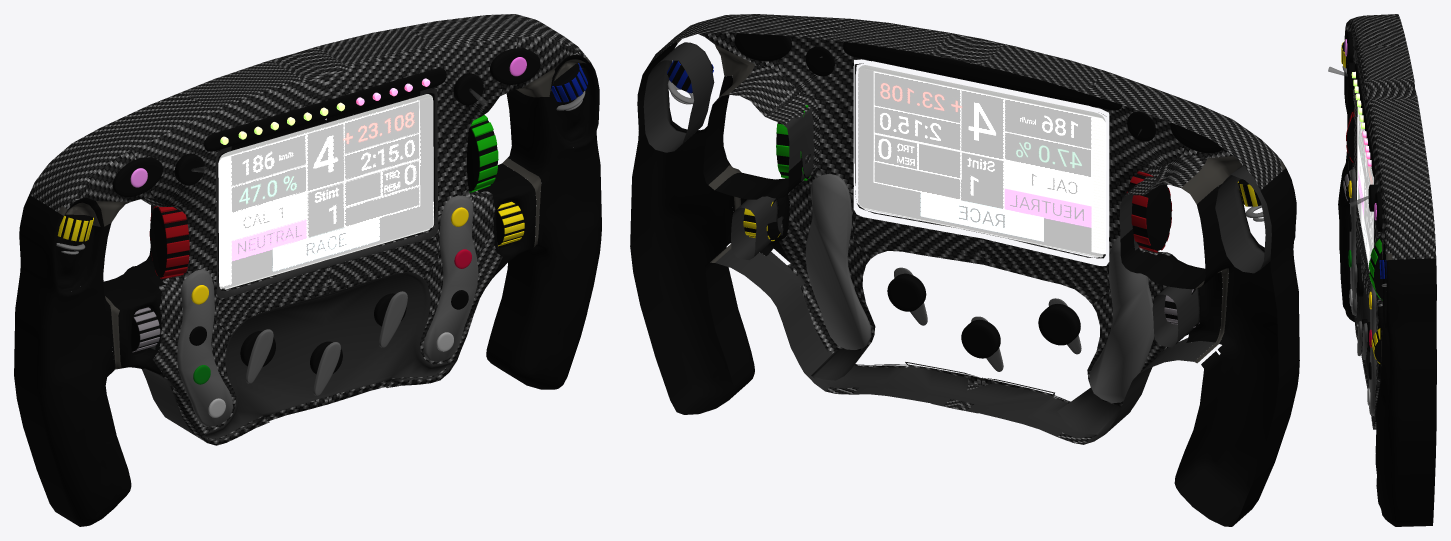
File: steeringwheel.glb
The picture shows the model from 3 angles, left to right: view 1: azimuth 30°, elevation 25°; view 2: azimuth 150°, elevation 25°; view 3: azimuth 270°, elevation 25°; orthographic projection. The views are drawn at different scales.
Parts seen in each view (by area): view 1: Plane, Plane.006, Plane.004, Plane.003, Cube, Cylinder.007, Cylinder.012, Cylinder.013, Cylinder.019, Cylinder.005, Cylinder.006, Cylinder.018 (+6 smaller); view 2: Plane, Plane.006, Plane.004, Plane.003, Cube, Cylinder.007, Cylinder.001, Cylinder.019, Cylinder.002, Cylinder.003, Cylinder.013; view 3: Plane, Plane.006, Plane.003, Plane.004, Cylinder.012, Cube, Cylinder.007, Cylinder.019, Cylinder.006, Cylinder.013, Cylinder.023, Cylinder.022 (+5 smaller).
Boxes of the visible parts, x1,y1,x2,y2 form: Plane: (14, 14, 601, 526); Plane.006: (218, 94, 433, 289); Plane.004: (423, 195, 478, 361); Plane.003: (177, 269, 232, 426); Cube: (204, 68, 446, 151); Cylinder.007: (149, 206, 189, 279); Cylinder.012: (467, 115, 498, 192); Cylinder.013: (112, 157, 163, 197); Cylinder.019: (490, 48, 540, 84); Cylinder.005: (131, 307, 160, 352); Cylinder.006: (496, 201, 524, 246); Cylinder.018: (551, 63, 587, 102); Plane: (630, 14, 1299, 526); Plane.006: (858, 65, 1106, 257); Plane.004: (805, 173, 871, 349); Plane.003: (1089, 236, 1154, 402); Cube: (843, 41, 1122, 110); Cylinder.007: (1126, 171, 1172, 252); Cylinder.001: (1038, 304, 1080, 345); Cylinder.019: (734, 33, 791, 61); Cylinder.002: (961, 319, 1000, 358); Cylinder.003: (887, 273, 926, 311); Cylinder.013: (1170, 122, 1223, 153); Plane: (1338, 14, 1436, 526); Plane.006: (1357, 93, 1373, 271); Plane.003: (1349, 168, 1356, 315); Plane.004: (1368, 283, 1376, 415); Cylinder.012: (1369, 238, 1382, 300); Cube: (1354, 63, 1375, 177); Cylinder.007: (1346, 109, 1354, 162); Cylinder.019: (1374, 192, 1382, 231); Cylinder.006: (1371, 328, 1380, 363); Cylinder.013: (1345, 31, 1353, 63); Cylinder.023: (1368, 184, 1377, 211); Cylinder.022: (1347, 62, 1355, 89).
Bounding box in the file's own units: 4.65 × 2.94 × 0.8667.
51 materials, 3 textured.
